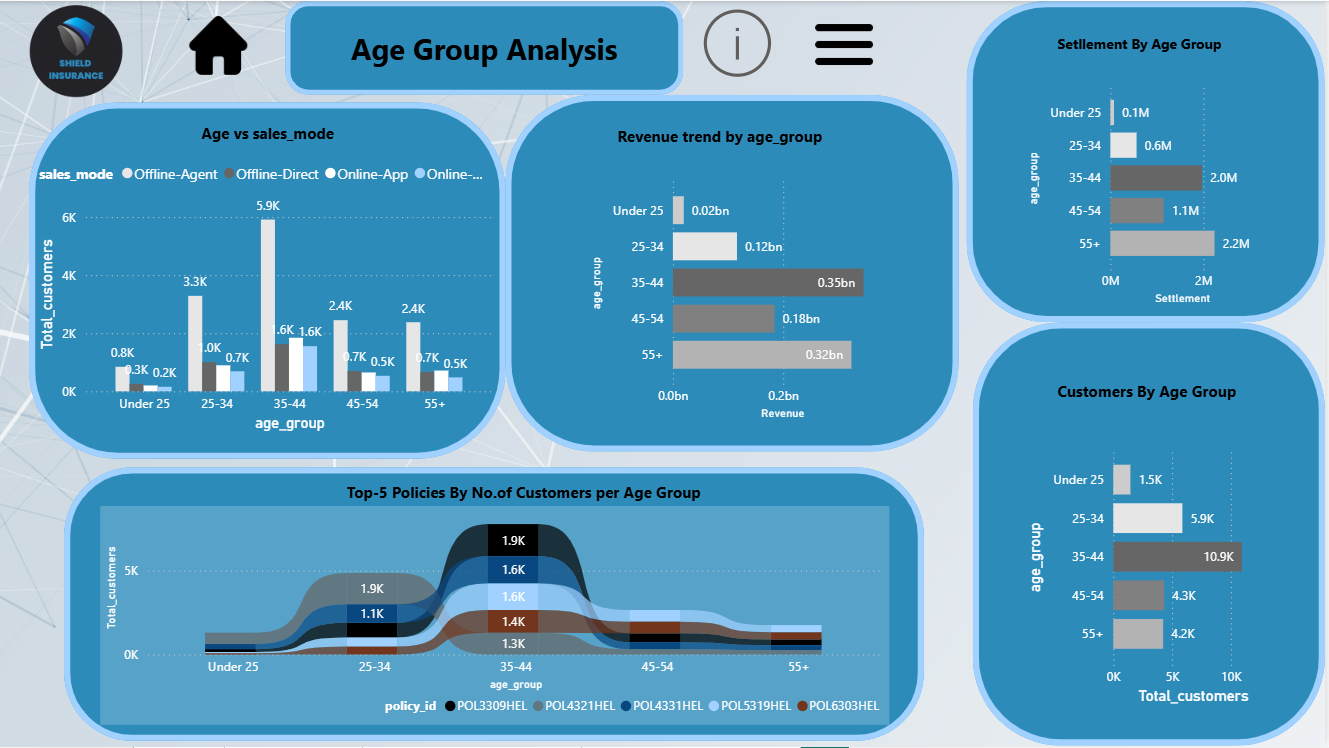

What the dashboard file says about the page in this screenshot:
{"tool":"powerbi","page":{"name":"New Age Group Analysis","canvas":[1280,720],"ordinal":3},"visuals":[{"type":"shape","box":[934.3,0,345.7,310],"z":0,"group":"g1"},{"type":"shape","box":[28.6,97.1,460,344.3],"z":0},{"type":"shape","box":[940.4,310.2,340,408.6],"z":0,"group":"g2"},{"type":"barChart","fields":{"Category":["dim_customer.age_group"],"Y":[" Measures.New Expected Settlement by Age Group"]},"box":[988.6,70,238.6,228.6],"z":1000,"group":"g1"},{"type":"barChart","fields":{"Category":["dim_customer.age_group"],"Y":[" Measures.Total_customers"]},"box":[987,419.9,258.6,264.3],"z":1000,"group":"g2"},{"type":"shape","box":[62.9,450,830,264.3],"z":1000},{"type":"shape","box":[488.5,90.6,437.7,344.4],"z":2000},{"type":"image","box":[0,0,148.6,97.1],"z":3000},{"type":"shape","box":[275.8,0,384.2,90.6],"z":4000},{"type":"barChart","fields":{"Category":["dim_customer.age_group"],"Y":[" Measures.Total_premium_amount"]},"box":[566.3,161.4,317.1,247.1],"z":5000},{"type":"ribbonChart","fields":{"Category":["dim_customer.age_group"],"Series":["fact_premiums.policy_id"],"Y":[" Measures.Total_customers"]},"box":[97.4,487.1,761.6,211.3],"z":6000},{"type":"clusteredColumnChart","fields":{"Category":["dim_customer.age_group"],"Series":["fact_premiums.sales_mode"],"Y":[" Measures.Total_customers"]},"box":[34.3,145.5,448.7,274.4],"z":7000},{"type":"group","id":"g1","title":"Group 1","box":[934.3,0,345.7,310],"z":8000},{"type":"group","id":"g2","title":"Group 2","box":[940.4,310.2,340,408.6],"z":9000},{"type":"shape","box":[60.4,97.4,397.9,57.6],"z":10000},{"type":"shape","box":[498.1,97.4,395.2,64.5],"z":11000},{"type":"shape","box":[922.1,12.3,358.1,57.6],"z":12000},{"type":"shape","box":[308.7,441.9,395.2,64.5],"z":13000},{"type":"shape","box":[934.5,344.4,345.8,64.5],"z":14000},{"type":"actionButton","title":"Info Open Button","box":[671.9,0,107.4,81.4],"z":15000},{"type":"image","title":"Menu Open Button","box":[760.2,5.2,110.8,74.5],"z":16000},{"type":"image","box":[165.3,14.5,92.9,56.7],"z":20000}]}

Visuals, with their boxes in screenshot pixels (x1, y1, x2, y2), scaled from the page's 1280x720 canvas onto the 1329x748 screenshot:
shape: region(970, 0, 1328, 322)
shape: region(30, 101, 507, 459)
shape: region(976, 322, 1328, 747)
barChart - dim_customer.age_group x  Measures.New Expected Settlement by Age Group: region(1026, 73, 1274, 310)
barChart - dim_customer.age_group x  Measures.Total_customers: region(1025, 436, 1293, 711)
shape: region(65, 468, 927, 742)
shape: region(507, 94, 962, 452)
image: region(0, 0, 154, 101)
shape: region(286, 0, 685, 94)
barChart - dim_customer.age_group x  Measures.Total_premium_amount: region(588, 168, 917, 424)
ribbonChart - dim_customer.age_group x fact_premiums.policy_id: region(101, 506, 892, 726)
clusteredColumnChart - dim_customer.age_group x fact_premiums.sales_mode: region(36, 151, 501, 436)
"Group 1" group: region(970, 0, 1328, 322)
"Group 2" group: region(976, 322, 1328, 747)
shape: region(63, 101, 476, 161)
shape: region(517, 101, 927, 168)
shape: region(957, 13, 1328, 73)
shape: region(321, 459, 731, 526)
shape: region(970, 358, 1328, 425)
"Info Open Button" actionButton: region(698, 0, 809, 85)
"Menu Open Button" image: region(789, 5, 904, 83)
image: region(172, 15, 268, 74)
